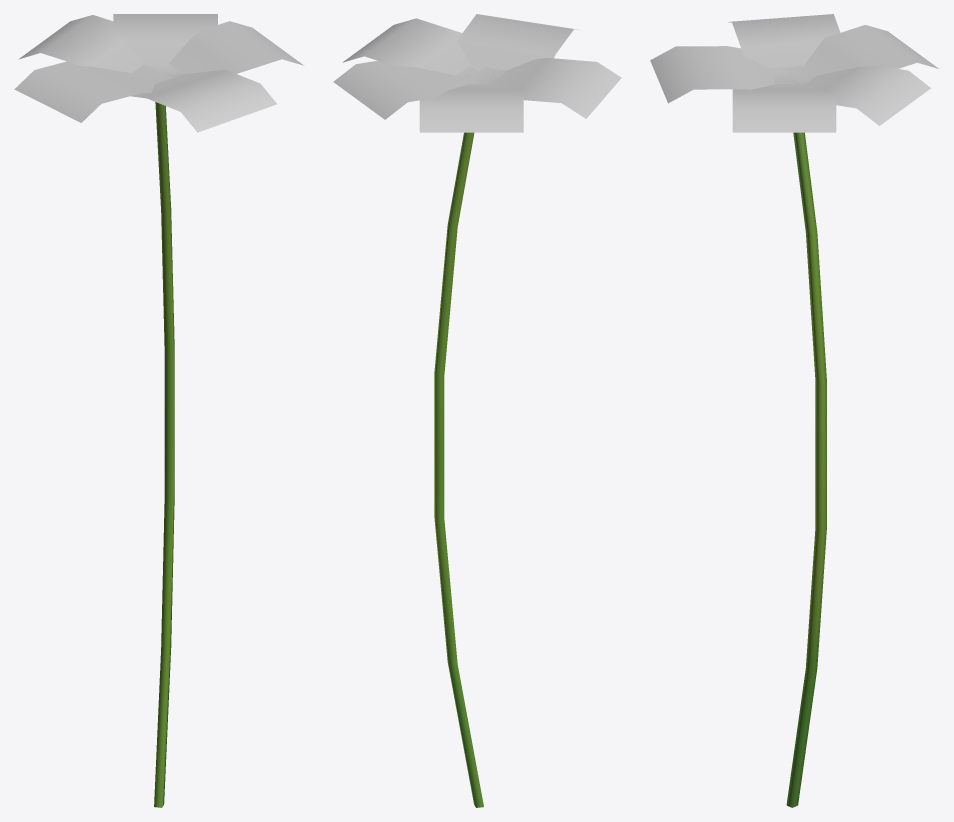
Rendered from SM_flower_06.fbx.
3 views of the same model, side by side, from view 1: azimuth 30°, elevation 25°; view 2: azimuth 150°, elevation 25°; view 3: azimuth 270°, elevation 25° (orthographic).
Visible parts, largest first — view 1: SM_flower_06; view 2: SM_flower_06; view 3: SM_flower_06.
Boxes of the visible parts, <box> form: SM_flower_06: <box>14,14,304,807</box>; SM_flower_06: <box>333,14,621,807</box>; SM_flower_06: <box>650,14,938,807</box>.
Size of the model in its own units: 18.61 by 54.83 by 19.43.
